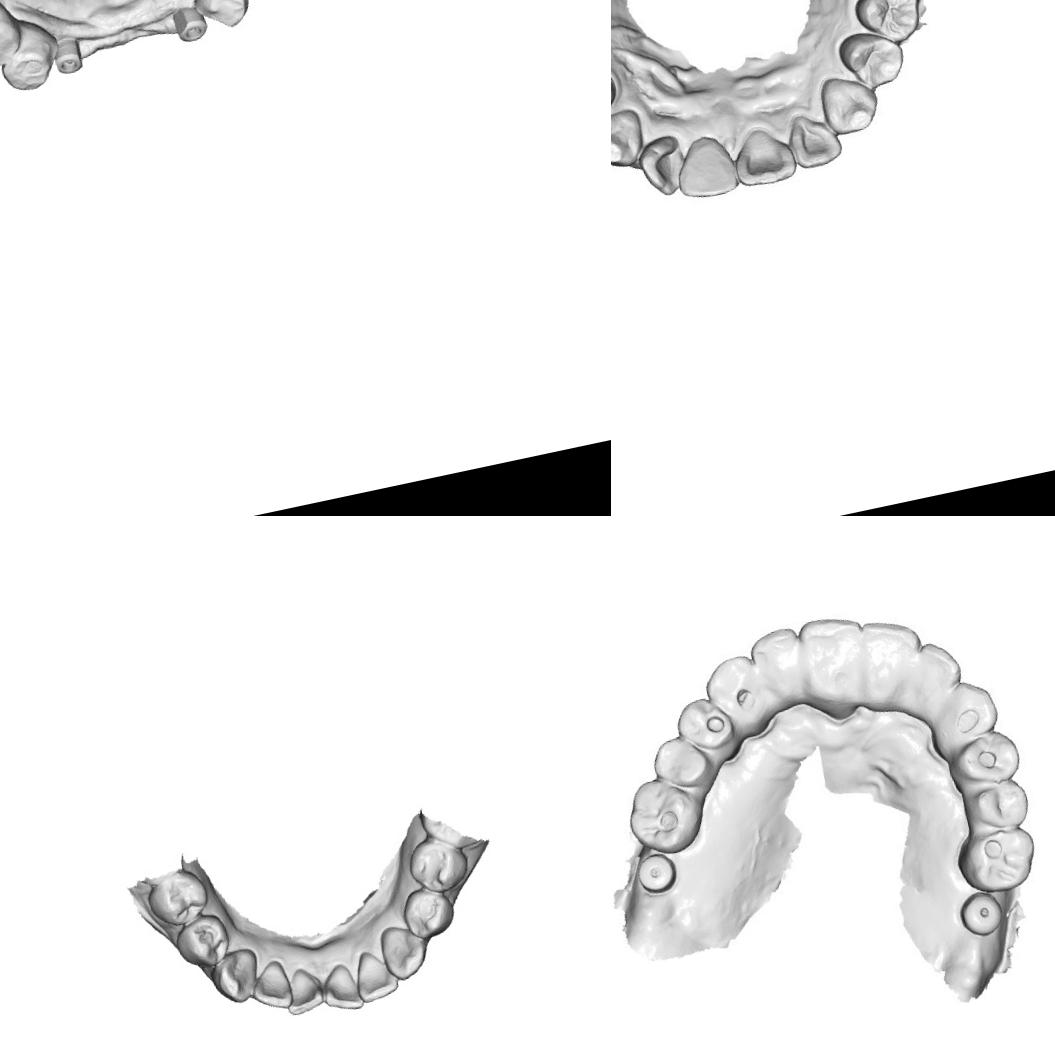canine: (921, 674, 1006, 757), (698, 648, 772, 740), (815, 68, 882, 140), (206, 944, 264, 1010), (378, 918, 434, 983), (611, 102, 649, 174)
implant: (955, 888, 1006, 942), (632, 848, 682, 898), (167, 0, 213, 46), (48, 36, 88, 81)
incisor: (790, 608, 877, 711), (849, 609, 934, 698), (744, 624, 812, 714), (892, 636, 968, 716), (724, 126, 802, 195), (670, 138, 743, 208), (781, 108, 846, 173), (634, 132, 686, 202), (348, 945, 404, 1005), (316, 959, 366, 1019), (279, 958, 328, 1018), (246, 956, 294, 1016)
molar: (616, 768, 708, 863), (948, 819, 1042, 900)
premolar: (834, 22, 912, 97), (942, 726, 1024, 794), (670, 692, 742, 764), (142, 866, 214, 932), (403, 833, 474, 899), (960, 776, 1036, 837), (169, 910, 237, 974), (648, 730, 714, 794), (397, 880, 460, 945), (0, 24, 58, 93), (849, 0, 927, 51), (191, 0, 253, 32), (0, 2, 25, 71)
